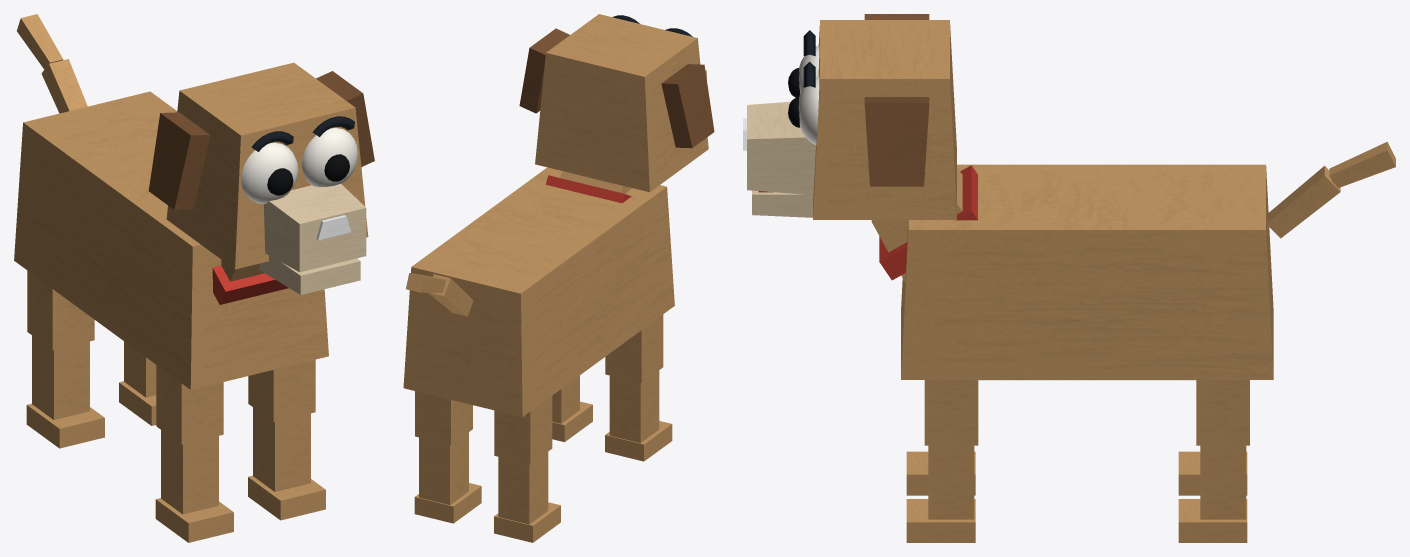
The model's file is dog.glb.
The picture shows the model from 3 angles, left to right: view 1: azimuth 30°, elevation 25°; view 2: azimuth 150°, elevation 25°; view 3: azimuth 270°, elevation 25°; orthographic projection. The views are drawn at different scales.
Parts seen in each view (by area): view 1: body, head, kneeFR, kneeBR, kneeFL, earR, legFR, legBR, legFL, kneeBL, jaw, neck (+3 smaller); view 2: body, head, kneeFR, kneeBR, kneeBL, earR, legBR, legFR, legBL, kneeFL, earL, neck (+2 smaller); view 3: body, head, kneeFL, kneeBL, earL, legFL, legBL, neck, tail, tail2, jaw, kneeFR (+1 smaller).
Boxes of the visible parts, box(x1,y1,x2,y2) form: body: box(14, 91, 328, 389); head: box(166, 62, 368, 272); kneeFR: box(155, 430, 233, 542); kneeBR: box(26, 335, 104, 448); kneeFL: box(248, 407, 325, 520); earR: box(148, 112, 210, 209); legFR: box(156, 365, 223, 444); legBR: box(27, 270, 94, 350); legFL: box(248, 359, 315, 422); kneeBL: box(119, 341, 156, 425); jaw: box(259, 255, 360, 294); neck: box(212, 260, 288, 304); body: box(403, 167, 674, 417); head: box(535, 14, 708, 192); kneeFR: box(605, 370, 672, 461); kneeBR: box(494, 452, 560, 542); kneeBL: box(414, 432, 481, 523); earR: box(661, 64, 714, 148); legBR: box(494, 396, 552, 464); legFR: box(605, 314, 663, 382); legBL: box(415, 391, 472, 444); kneeFL: box(552, 375, 592, 442); earL: box(519, 28, 569, 113); neck: box(545, 171, 631, 203); body: box(901, 164, 1273, 380); head: box(743, 20, 956, 219); kneeFL: box(906, 445, 975, 542); kneeBL: box(1178, 445, 1247, 542); earL: box(864, 97, 929, 186); legFL: box(924, 380, 978, 445); legBL: box(1196, 380, 1249, 445); neck: box(871, 165, 977, 282); tail: box(1267, 165, 1340, 238); tail2: box(1329, 141, 1395, 187); jaw: box(752, 190, 813, 217); kneeFR: box(906, 451, 975, 495).
Bounding box in the file's own units: 0.4064 × 0.8423 × 1.09.
18 materials, 15 textured.
